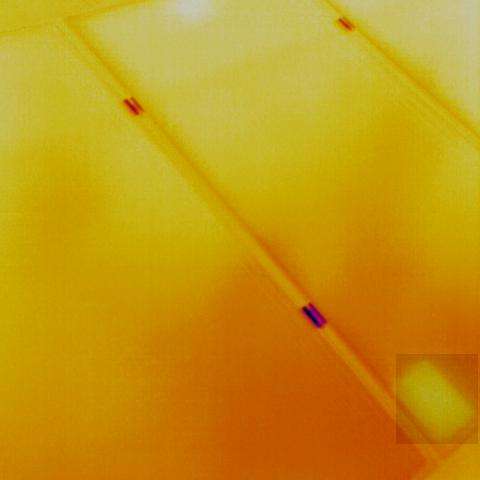fault: (396, 354, 478, 444)
